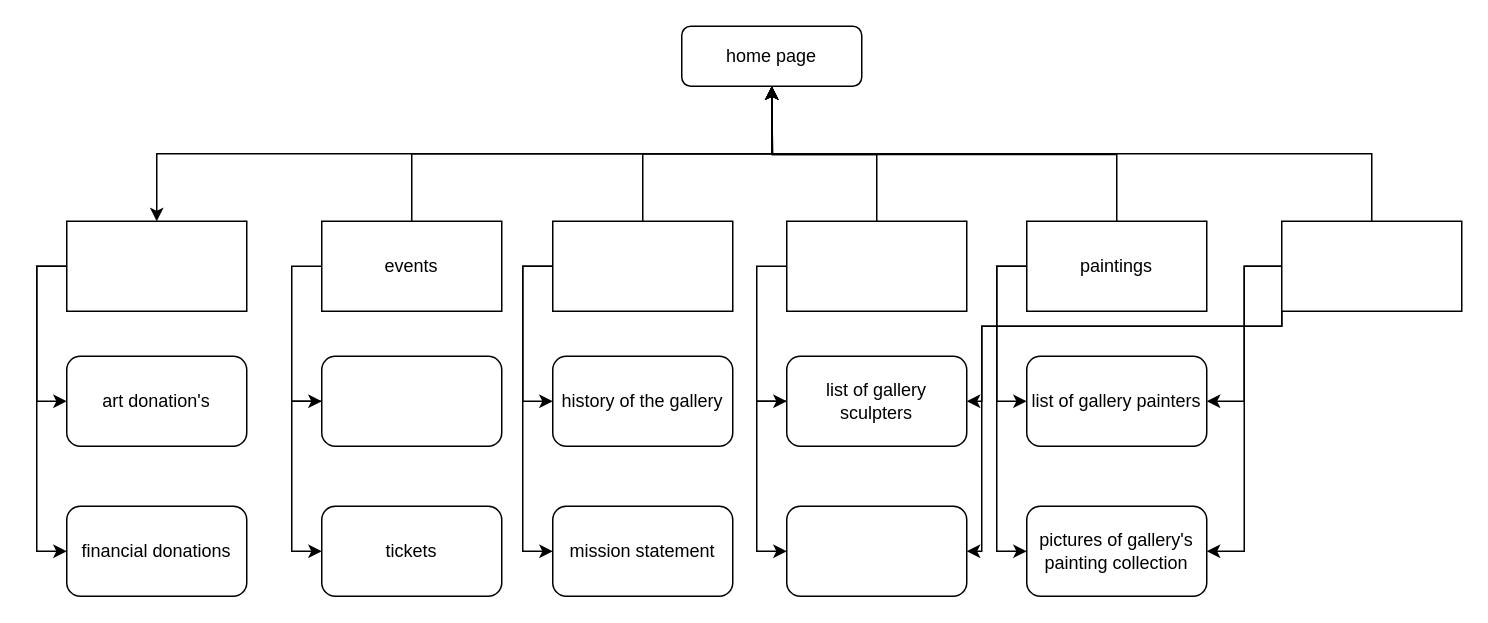
The diagram is 1488 pixels wide and 623 high, and some of its shapes have lost their labels. The box of each missing label's shape, as (x1, y1, x2, y2) in pixels:
about: (551, 220, 733, 311)
calander: (320, 355, 502, 446)
donations: (65, 220, 247, 311)
picture gallery of sculptures works: (785, 505, 967, 596)
sculpture: (785, 220, 967, 311)
search: (1280, 220, 1462, 311)
